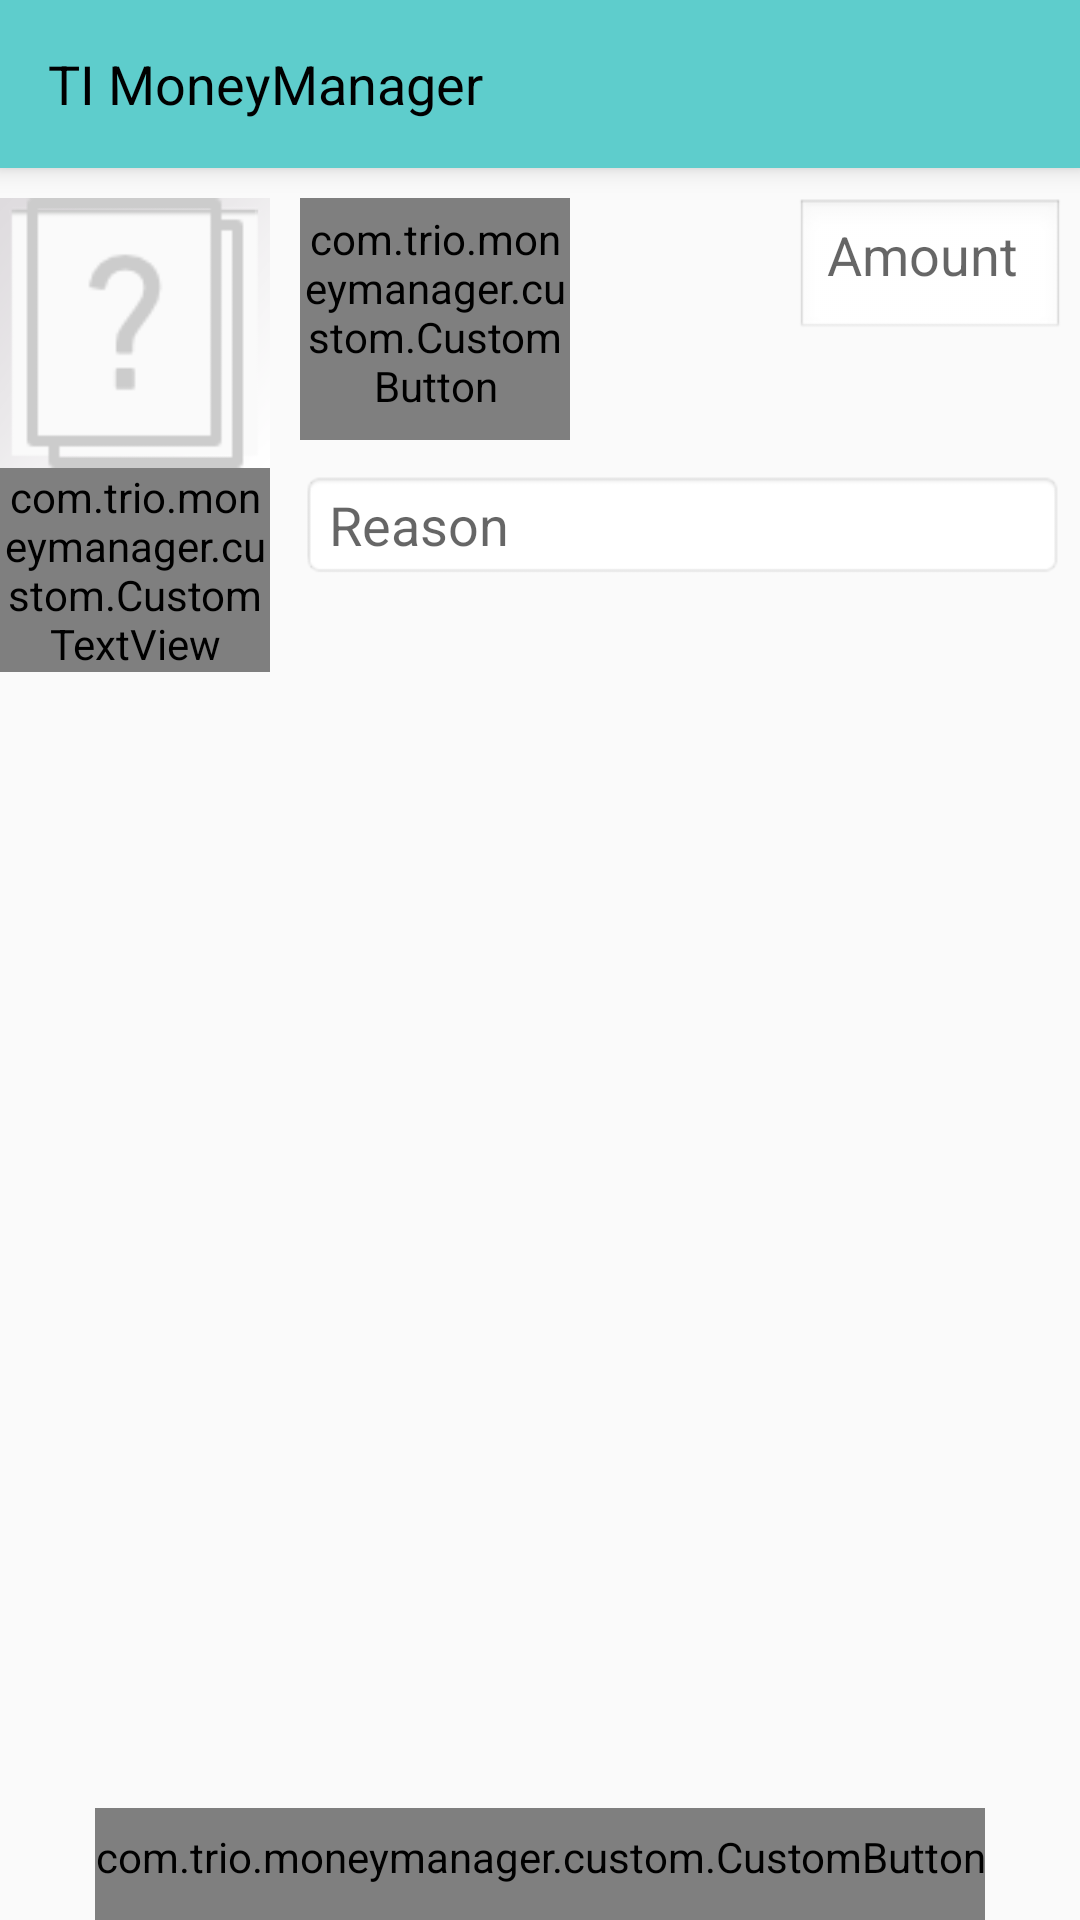

Point at icon controls on the screen. Image size 1080*1920, points as [x,y].
question mark: [129,333]
